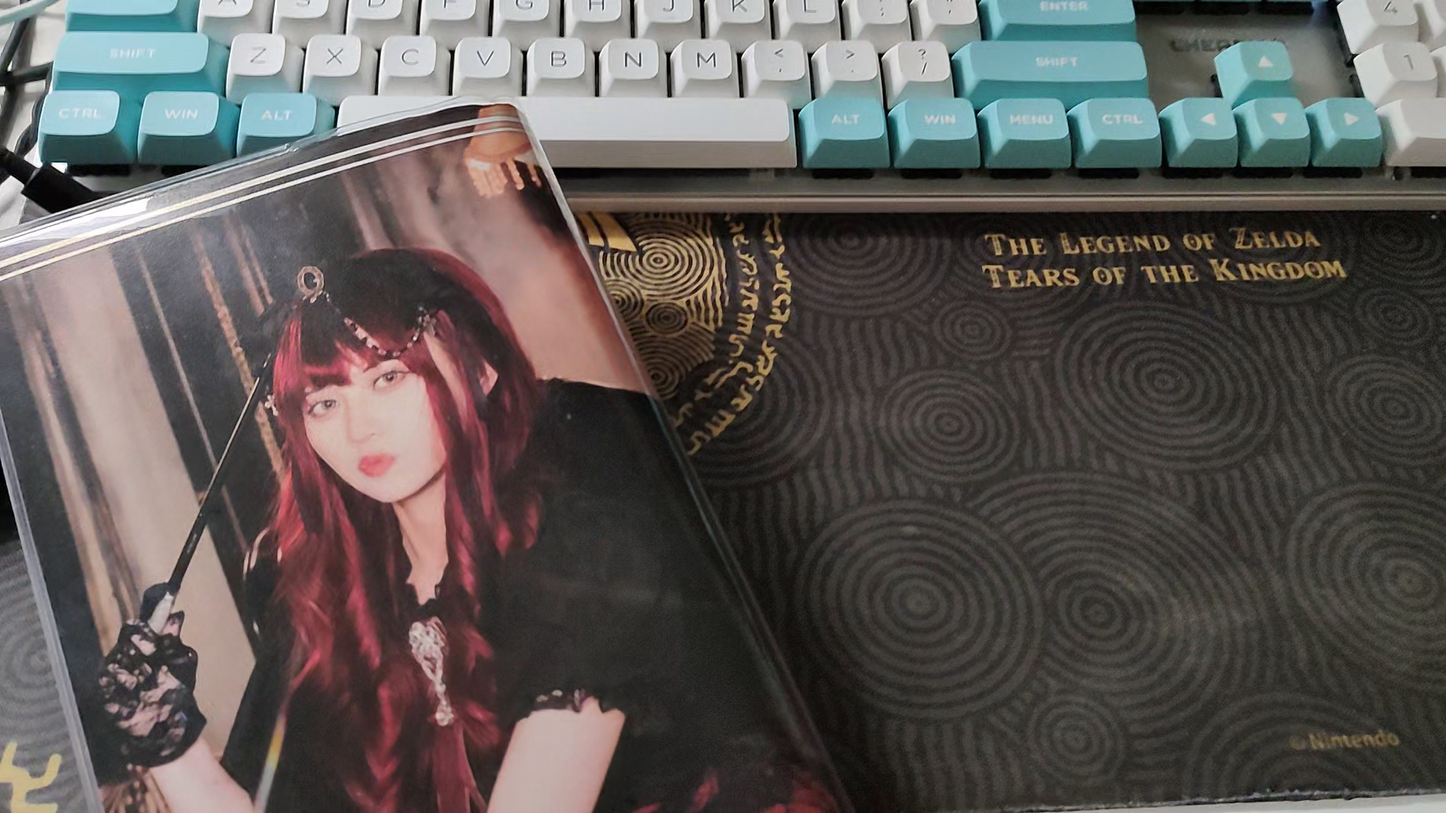Photo_book: (0, 97, 863, 813)
